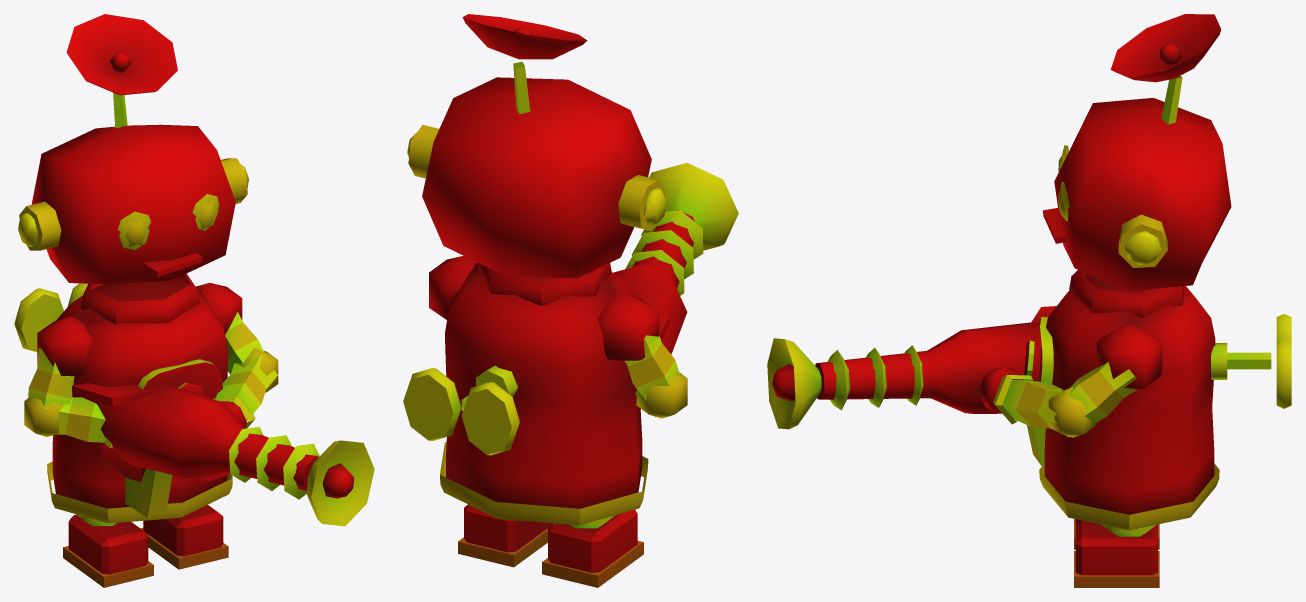
Rendered from RobotRayGunner_LOD1.glb.
3 views of the same model, side by side, from view 1: azimuth 30°, elevation 25°; view 2: azimuth 150°, elevation 25°; view 3: azimuth 270°, elevation 25° (orthographic). The views are drawn at different scales.
Visible parts, largest first — view 1: RobotRayGunner_LOD1; view 2: RobotRayGunner_LOD1; view 3: RobotRayGunner_LOD1.
Boxes of the visible parts, x1,y1,x2,y2 form: RobotRayGunner_LOD1: [14, 14, 374, 587]; RobotRayGunner_LOD1: [403, 14, 738, 587]; RobotRayGunner_LOD1: [767, 14, 1291, 587].
Bounding box in the file's own units: 0.4367 × 0.9283 × 0.8307.
